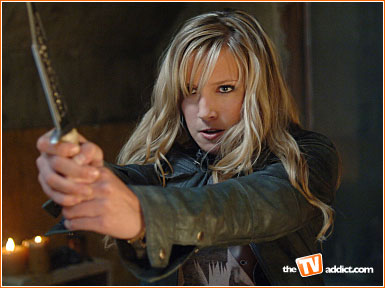knife: (23, 1, 82, 144)
